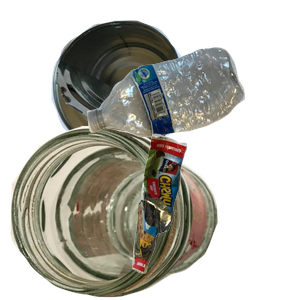glass: (10, 126, 220, 300)
metal: (49, 18, 229, 164)
plastic: (85, 45, 300, 175)
trash: (130, 131, 300, 300)
